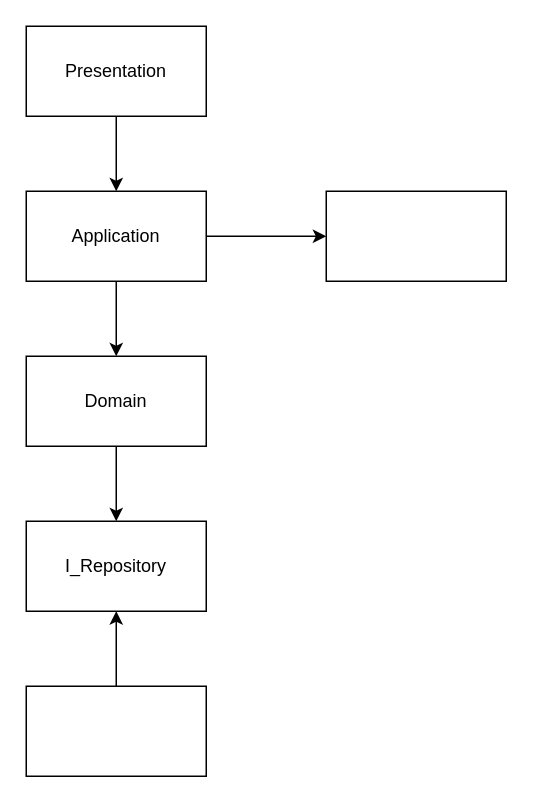
This 533x803 diagram has some shape labels left out. Each missing label, with the centre of its shape:
"InputData" goes at point (415, 235).
"Repository" goes at point (115, 730).
